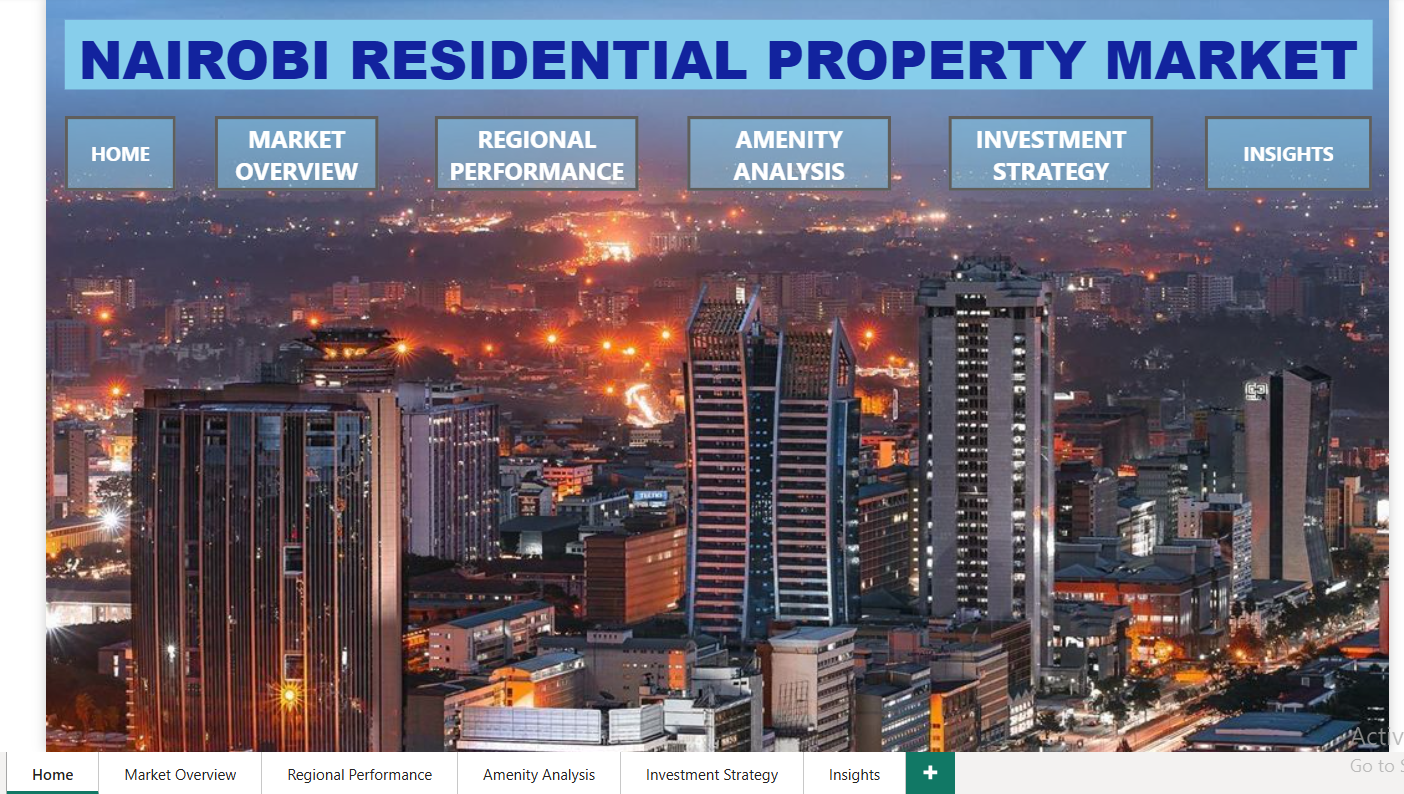

What the dashboard file says about the page in this screenshot:
{"tool":"powerbi","page":{"name":"Home","canvas":[1280,720],"ordinal":0},"visuals":[{"type":"actionButton","box":[17.9,114.3,106,71.4],"z":0},{"type":"actionButton","box":[160.7,114.3,156,71.4],"z":1000},{"type":"actionButton","box":[370.2,114.3,194,71.4],"z":2000},{"type":"actionButton","box":[610.7,114.3,194,71.4],"z":3000},{"type":"actionButton","box":[1103.6,114.3,159.5,71.4],"z":4000},{"type":"actionButton","box":[859.5,114.3,195.2,71.4],"z":5000},{"type":"textbox","title":"NAIROBI RESIDENTIAL PROPERTY MARKET","box":[17.9,22.6,1245.2,66.7],"z":5001}]}

Visuals, with their boxes on the page's 1280x720 design canvas (x1, y1, x2, y2). These are canvas units, not pixel positions in the 1404x794 screenshot, which may show the page scaled, cropped or inside an application window:
actionButton: <box>18,114,124,186</box>
actionButton: <box>161,114,317,186</box>
actionButton: <box>370,114,564,186</box>
actionButton: <box>611,114,805,186</box>
actionButton: <box>1104,114,1263,186</box>
actionButton: <box>860,114,1055,186</box>
"NAIROBI RESIDENTIAL PROPERTY MARKET" textbox: <box>18,23,1263,89</box>
